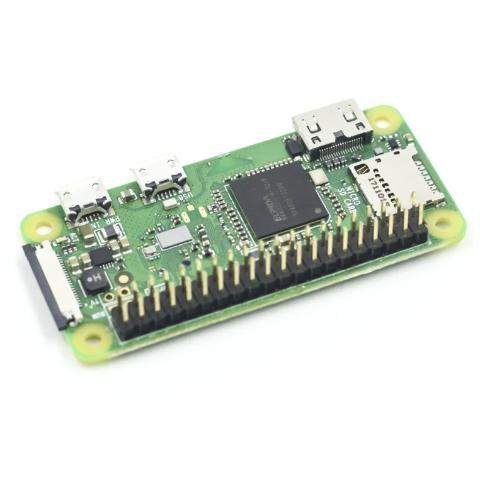Raspberry-Pi-Zero-WH: (20, 96, 467, 364)
